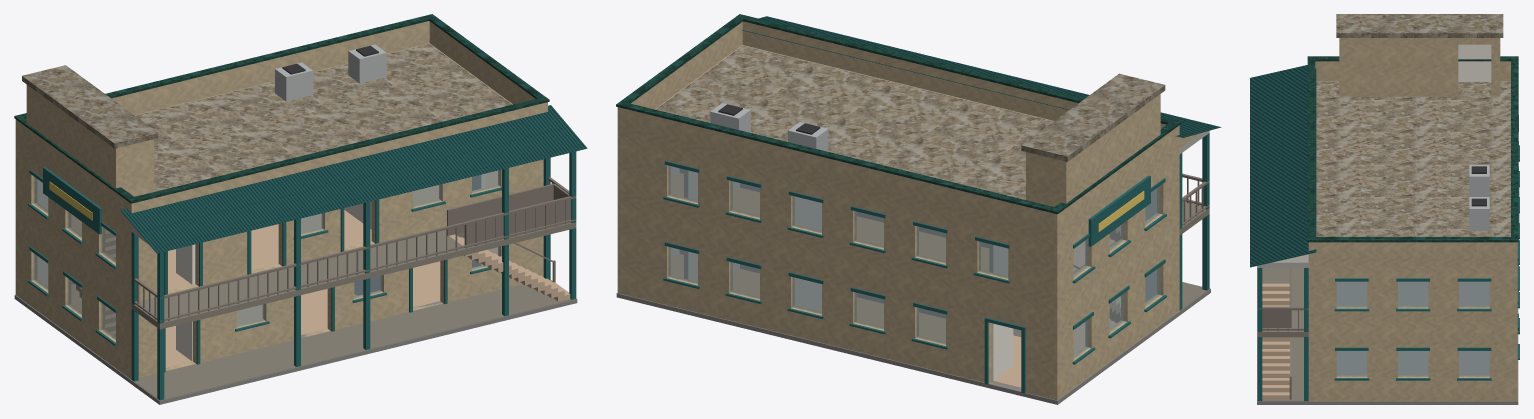
The model's file is cr-motor-court.towns-v1.lod0.glb.
3 views of the same model, side by side, from view 1: azimuth 30°, elevation 25°; view 2: azimuth 150°, elevation 25°; view 3: azimuth 270°, elevation 25° (orthographic). The views are drawn at different scales.
Parts seen in each view (by area): view 1: cr-motor-court; view 2: cr-motor-court; view 3: cr-motor-court.
Part boxes in pixels (x1,y1,x2,y2): cr-motor-court: (14,14,587,404); cr-motor-court: (616,14,1221,404); cr-motor-court: (1250,14,1519,404).
Size of the model in its own units: 17.6 by 8.95 by 10.59.
7 materials, 3 textured.
